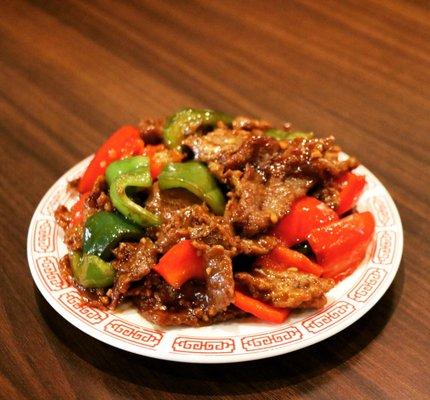curry: (1, 4, 422, 396)
pizza: (152, 239, 205, 288)
